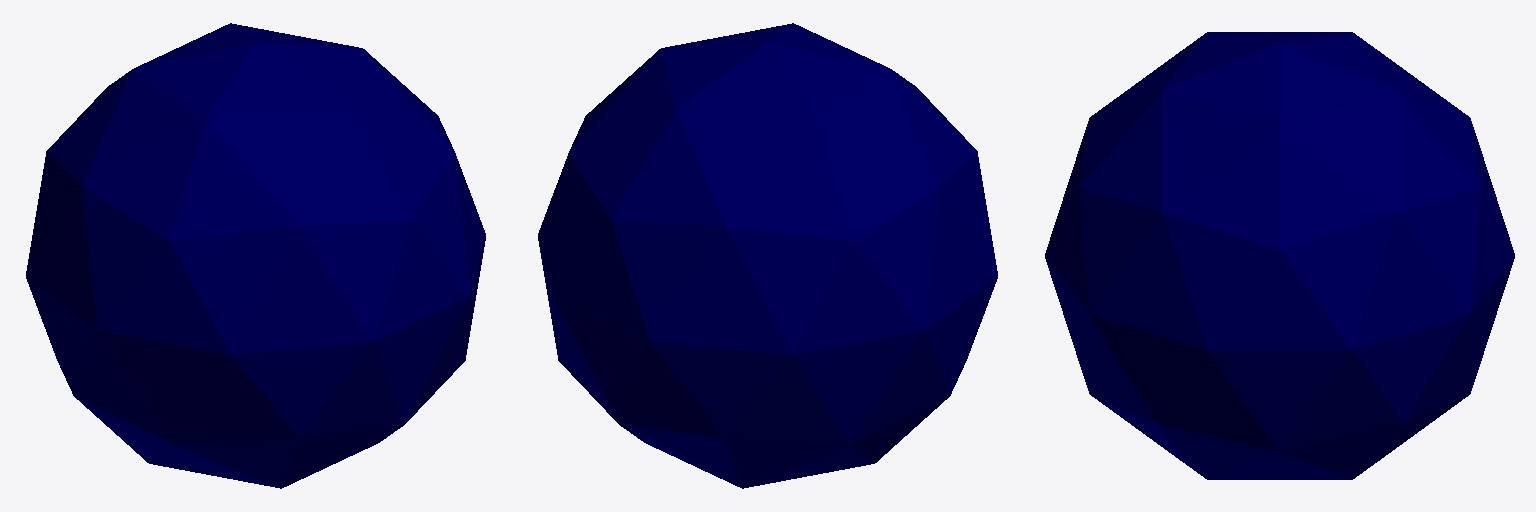
Rendered from energy_ball.obj.
3 views of the same model, side by side, from view 1: azimuth 30°, elevation 25°; view 2: azimuth 150°, elevation 25°; view 3: azimuth 270°, elevation 25° (orthographic).
Parts seen in each view (by area): view 1: Energy_Ball_Shell_Icosphere; view 2: Energy_Ball_Shell_Icosphere; view 3: Energy_Ball_Shell_Icosphere.
Boxes of the visible parts, x1=… form: Energy_Ball_Shell_Icosphere: x1=26, y1=23, x2=485, y2=488; Energy_Ball_Shell_Icosphere: x1=538, y1=23, x2=997, y2=488; Energy_Ball_Shell_Icosphere: x1=1045, y1=32, x2=1514, y2=479.
Bounding box in the file's own units: 0.1812 × 0.1906 × 0.1906.